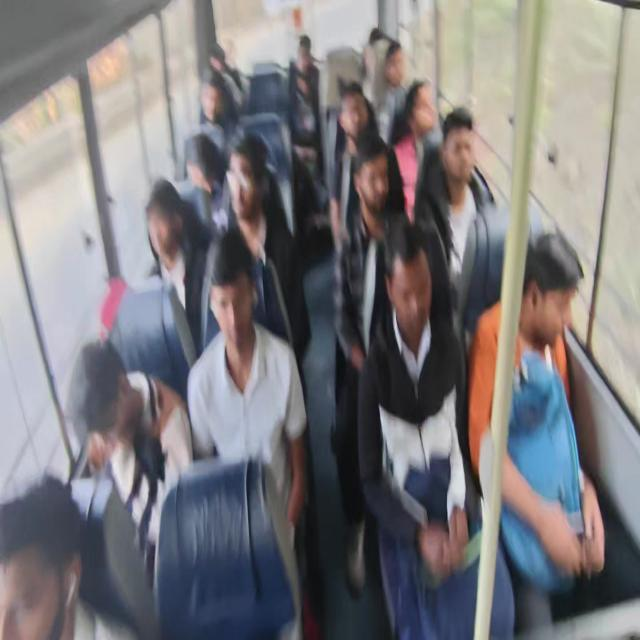person: (0, 519, 80, 640), (511, 253, 581, 345), (71, 343, 132, 439), (384, 240, 429, 334), (204, 273, 257, 352), (146, 185, 175, 253), (444, 127, 474, 185), (336, 90, 366, 147), (230, 157, 258, 218), (407, 87, 438, 140), (358, 158, 390, 209), (187, 141, 215, 193), (384, 44, 406, 92), (199, 84, 225, 120), (289, 36, 311, 74)
